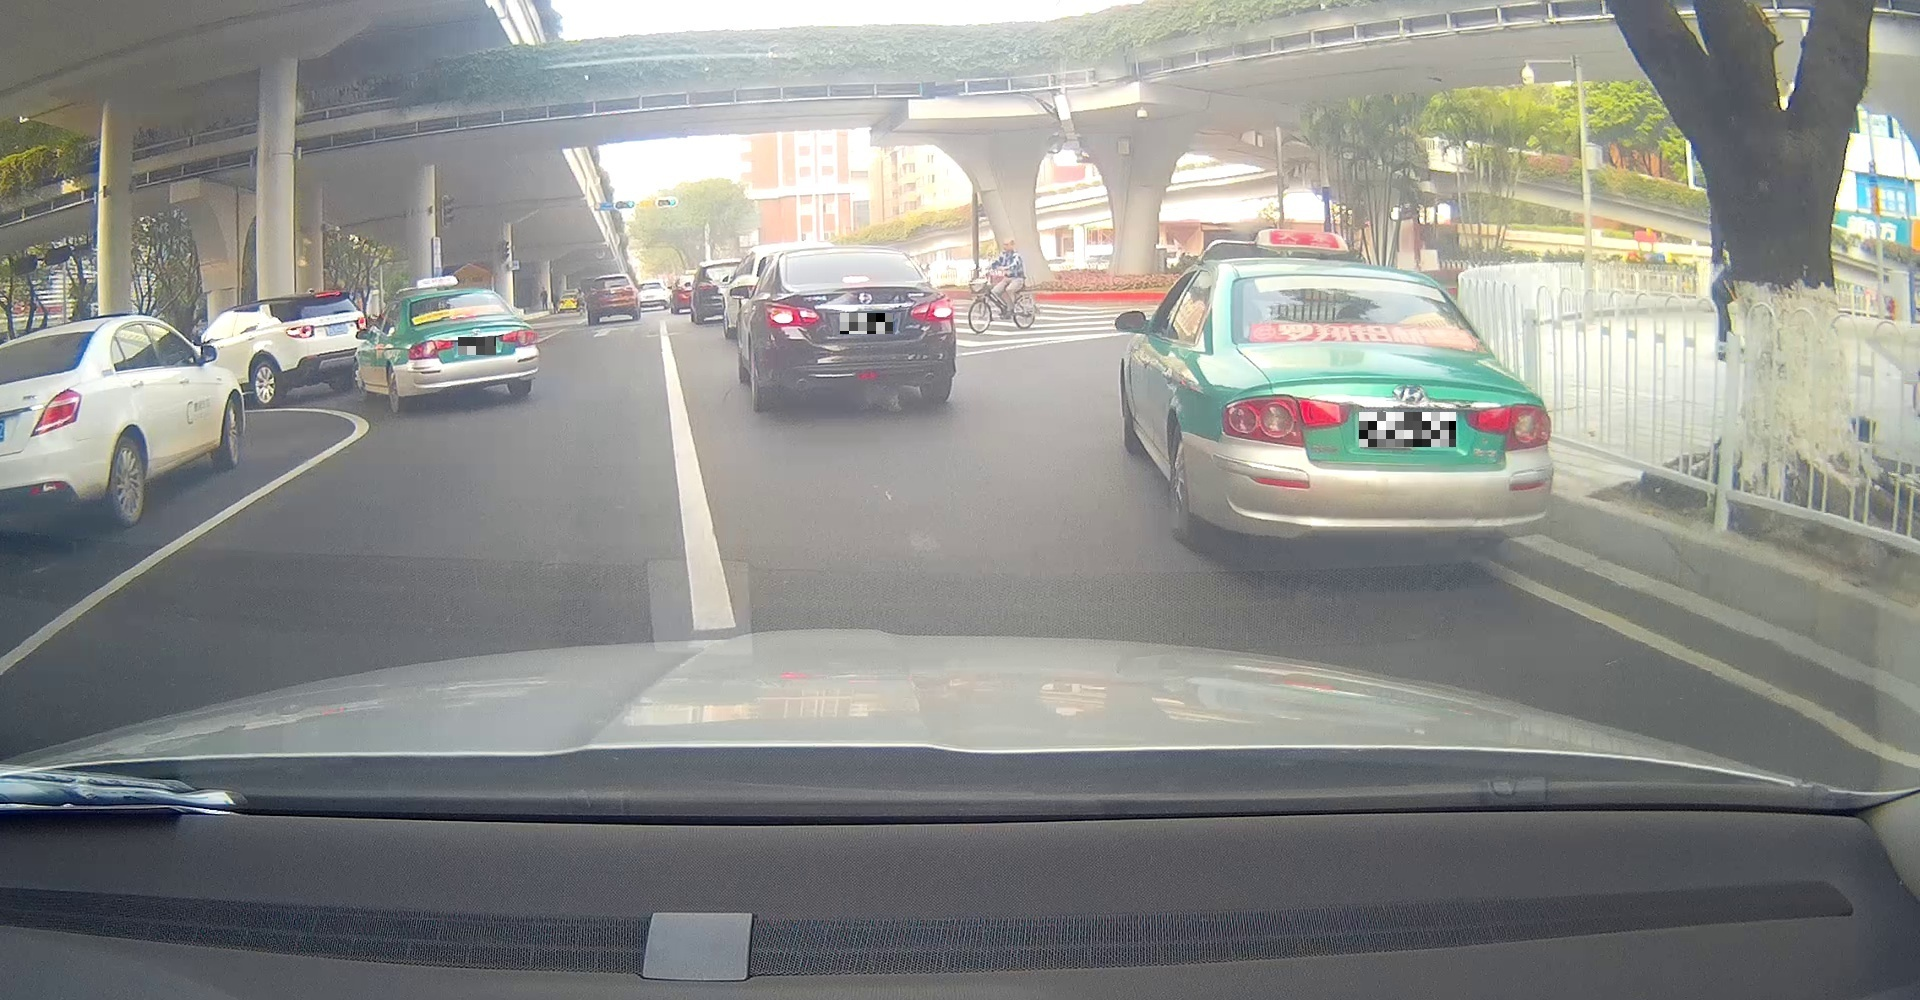L_light: (1220, 393, 1349, 447), (764, 302, 819, 329), (408, 339, 455, 360), (284, 324, 314, 340), (588, 294, 599, 301)
R_light: (1463, 402, 1550, 452), (908, 294, 954, 324), (500, 329, 538, 348), (354, 316, 368, 330), (620, 291, 635, 297)
T_light: (841, 275, 870, 286), (1327, 273, 1363, 280), (312, 291, 342, 298), (450, 313, 480, 320), (604, 275, 616, 280)
day-brake: (756, 247, 957, 405), (405, 289, 538, 414), (282, 291, 370, 395)
day-no: (1209, 261, 1554, 563), (587, 274, 637, 324)
plate_1: (458, 338, 497, 355)
plate_2: (841, 313, 893, 334)
plate_3: (1359, 412, 1457, 447)
